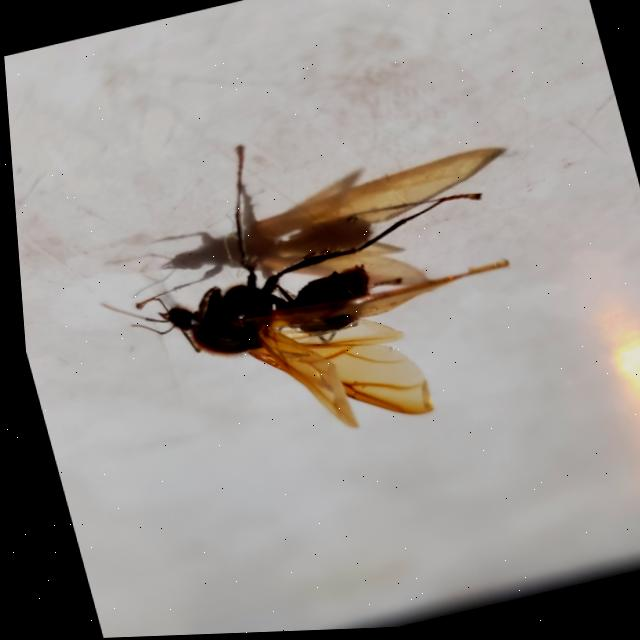Alive-Male-Alate: (59, 93, 542, 482)
